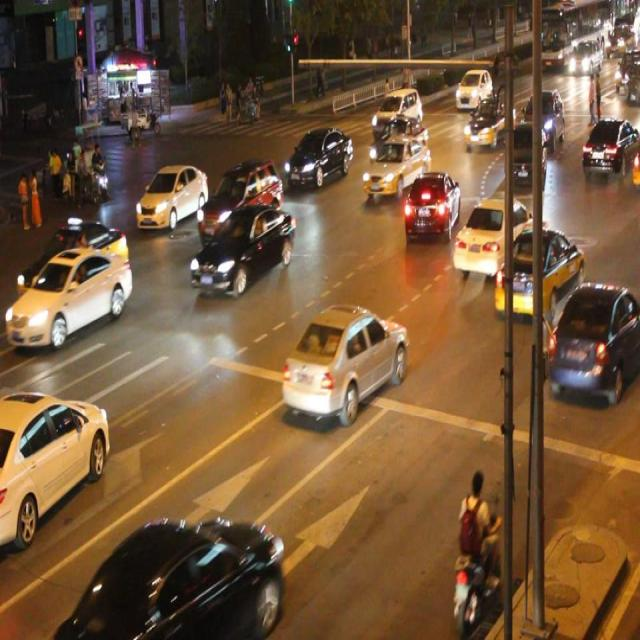car: (67, 515, 283, 640), (282, 303, 407, 422), (0, 390, 110, 524), (12, 245, 131, 346), (546, 279, 640, 400), (17, 219, 129, 304), (190, 204, 295, 294), (494, 228, 583, 315), (198, 157, 283, 240), (452, 196, 535, 274), (136, 164, 208, 231), (403, 169, 460, 240), (362, 136, 429, 196), (284, 127, 352, 186), (580, 116, 640, 172), (369, 117, 427, 171), (370, 86, 423, 138), (461, 98, 514, 150), (503, 120, 544, 184)
